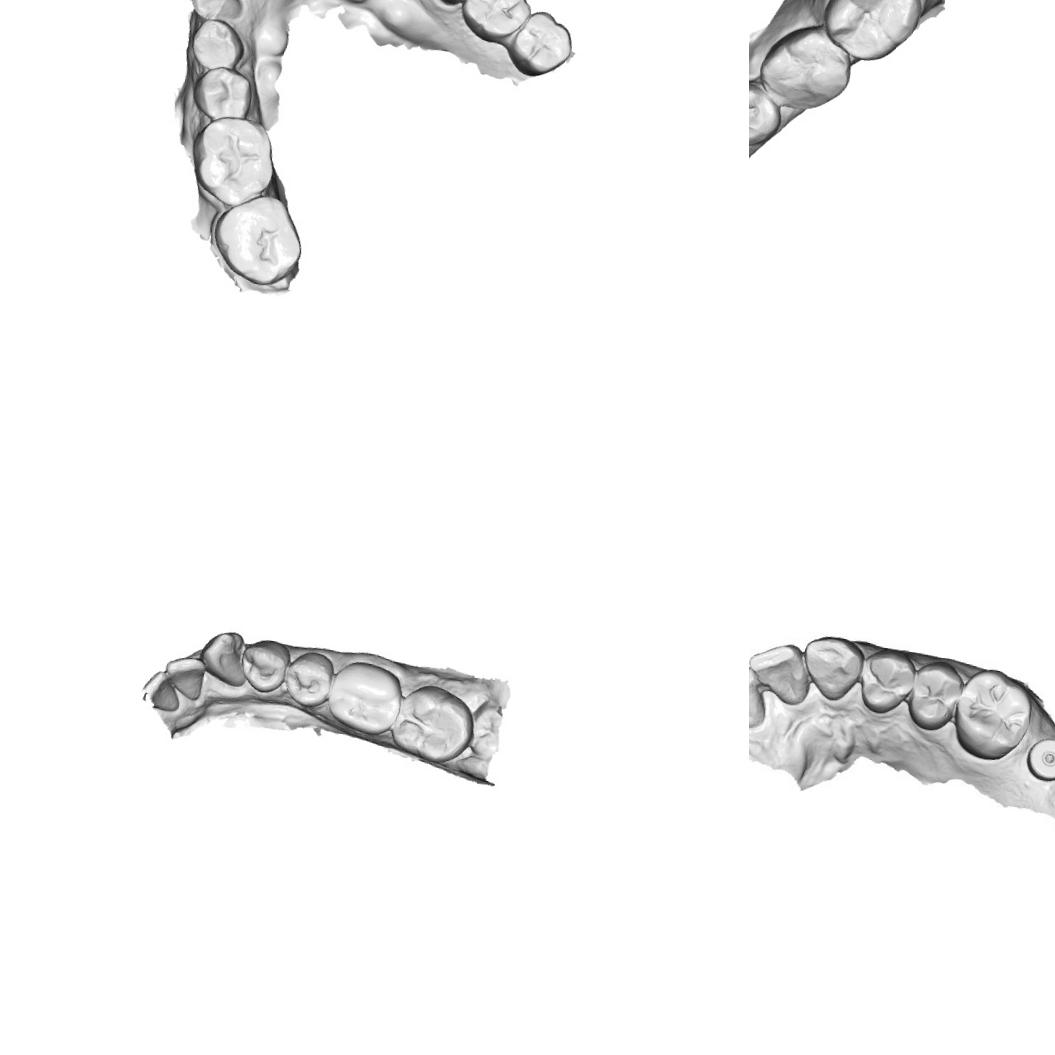canine: (799, 634, 864, 704), (196, 626, 252, 688), (184, 0, 252, 24)
implant: (1025, 735, 1055, 783)
incisor: (749, 643, 816, 711), (160, 653, 208, 703), (139, 668, 185, 714), (749, 651, 770, 730)
molar: (205, 185, 310, 292), (752, 17, 858, 117), (944, 663, 1042, 765), (190, 111, 283, 210), (387, 680, 480, 768), (817, 0, 924, 67), (323, 657, 403, 738), (503, 5, 579, 82), (457, 0, 538, 46)
premolar: (188, 62, 260, 126), (856, 648, 916, 718), (904, 662, 962, 732), (185, 18, 250, 74), (280, 648, 336, 710), (235, 637, 292, 696), (749, 76, 785, 151)
